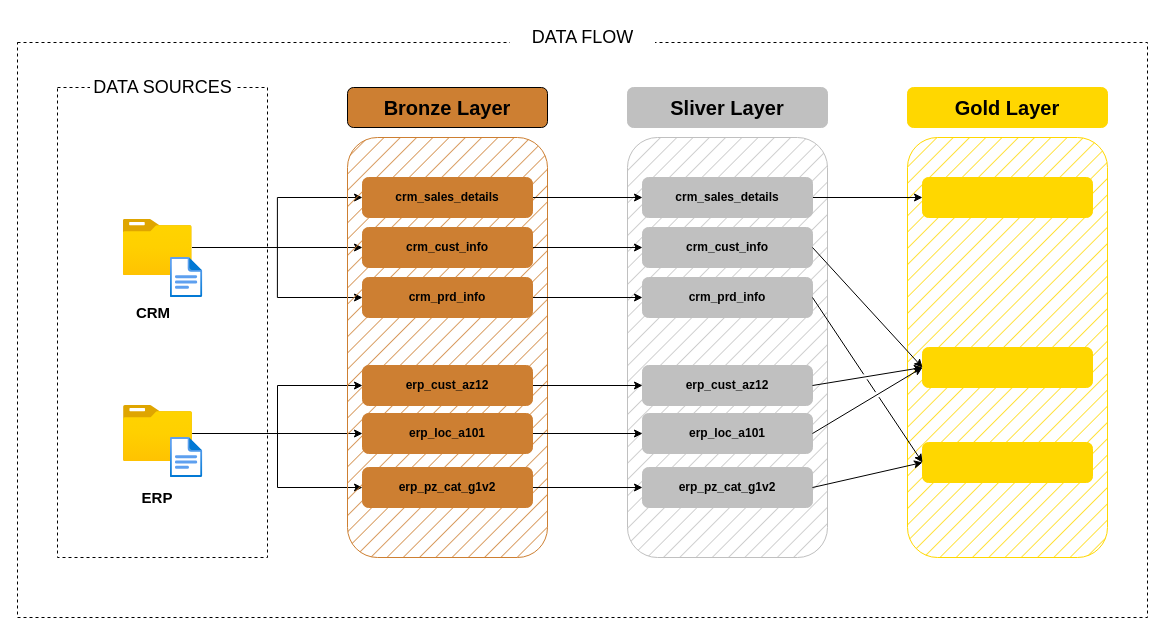
Image size: 1165x635. Some labels were removed from this diagram. The centre of each missing label's shape, as x and y in pixels:
"dim_customers" goes at point 1007,367.
"dim_products" goes at point 1007,462.
"fact_sales" goes at point 1007,197.
